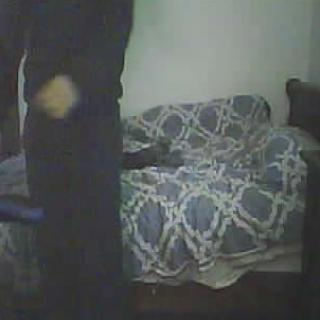Navy Sweatpants: (26, 105, 126, 320)
